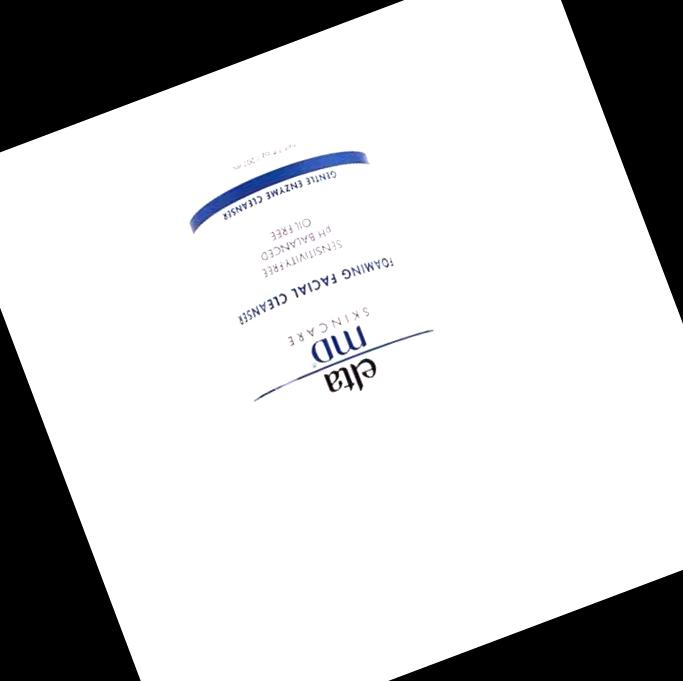cosmetic: (156, 82, 519, 640)
